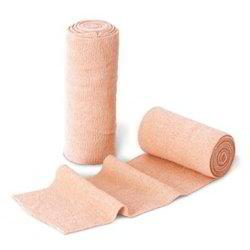bandage: (13, 107, 235, 235), (64, 19, 120, 167)
